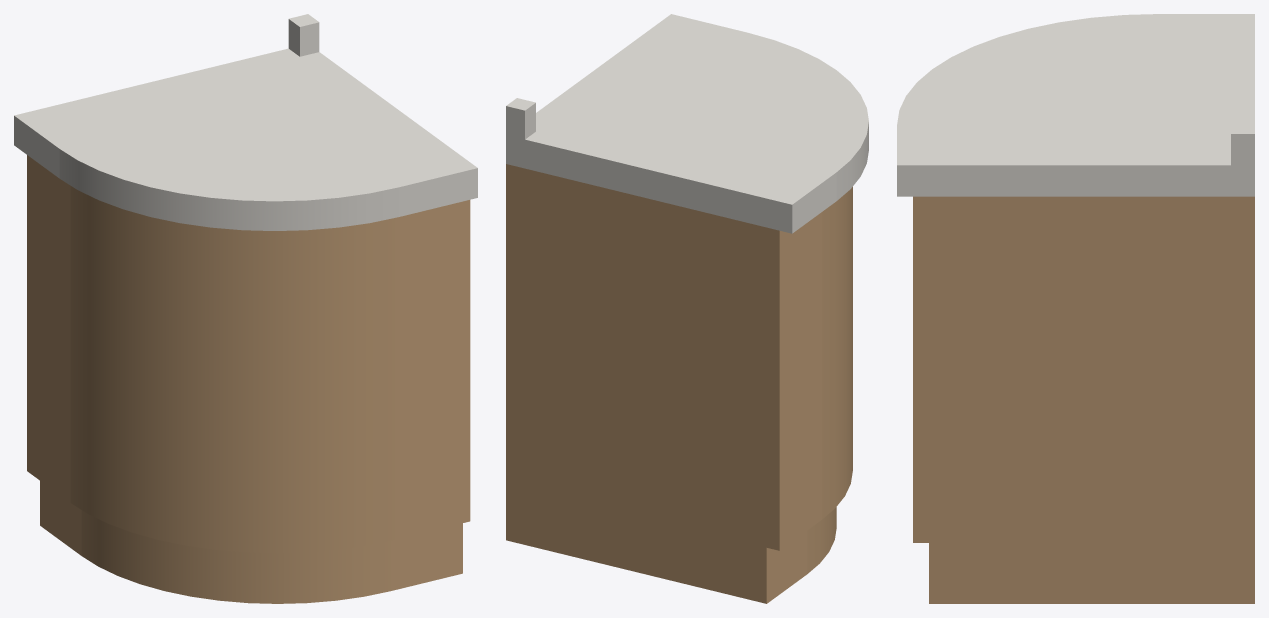
The model's file is kitchen-base-end.glb.
The picture shows the model from 3 angles, left to right: view 1: azimuth 30°, elevation 25°; view 2: azimuth 150°, elevation 25°; view 3: azimuth 270°, elevation 25°; orthographic projection. The views are drawn at different scales.
Visible parts, largest first — view 1: kitchen-base-end; view 2: kitchen-base-end; view 3: kitchen-base-end.
Boxes of the visible parts, x1,y1,x2,y2 form: kitchen-base-end: [14, 14, 477, 603]; kitchen-base-end: [506, 14, 868, 603]; kitchen-base-end: [897, 14, 1254, 603].
Size of the model in its own units: 0.6 by 0.87 by 0.6.
